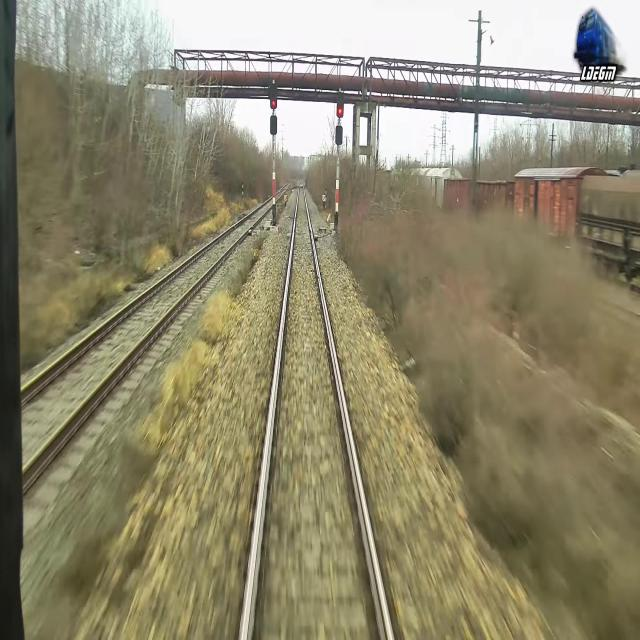rail-track: (0, 197, 271, 490), (246, 179, 389, 639)
